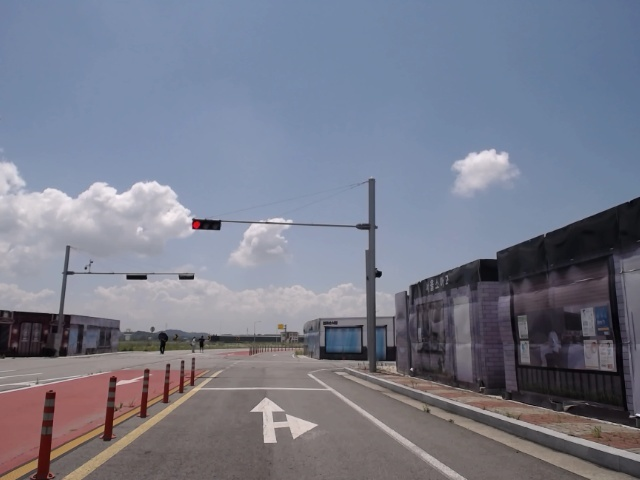red_3: (191, 219, 222, 229)
